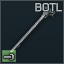Badger Ordnance Tactical Charging Handle Latch: (0, 0, 64, 64)
